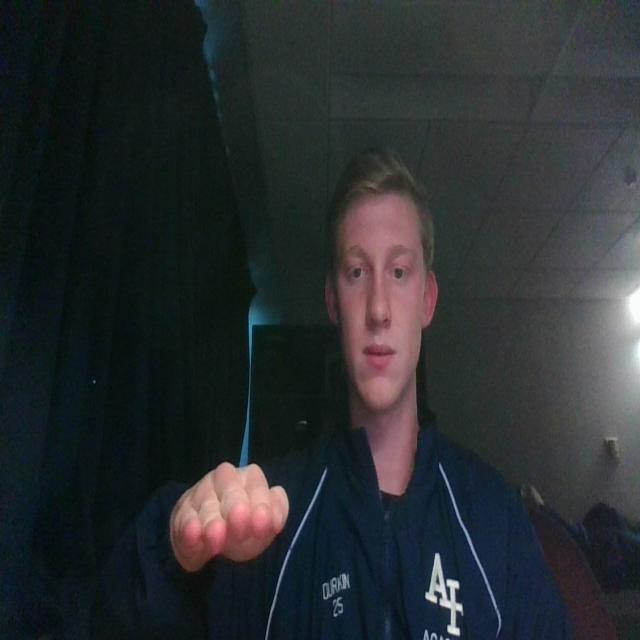paper: (167, 452, 294, 579)
